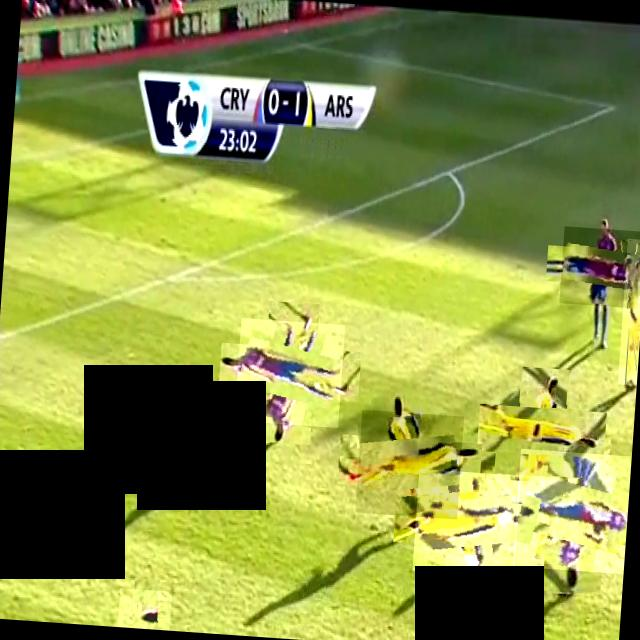soccer-player: (512, 448, 632, 574), (234, 318, 345, 428), (354, 409, 464, 519), (412, 468, 520, 577), (494, 384, 588, 478), (559, 226, 640, 308), (617, 238, 640, 385), (117, 588, 172, 630)
